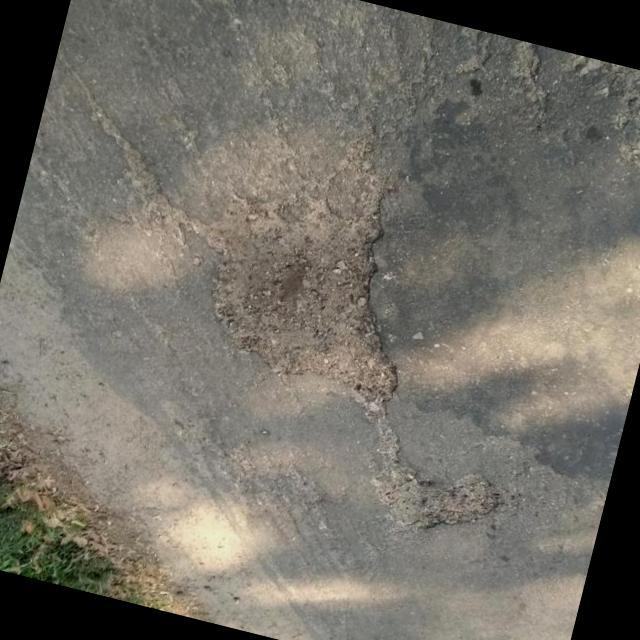pothole: (178, 168, 442, 414), (367, 452, 509, 558)
